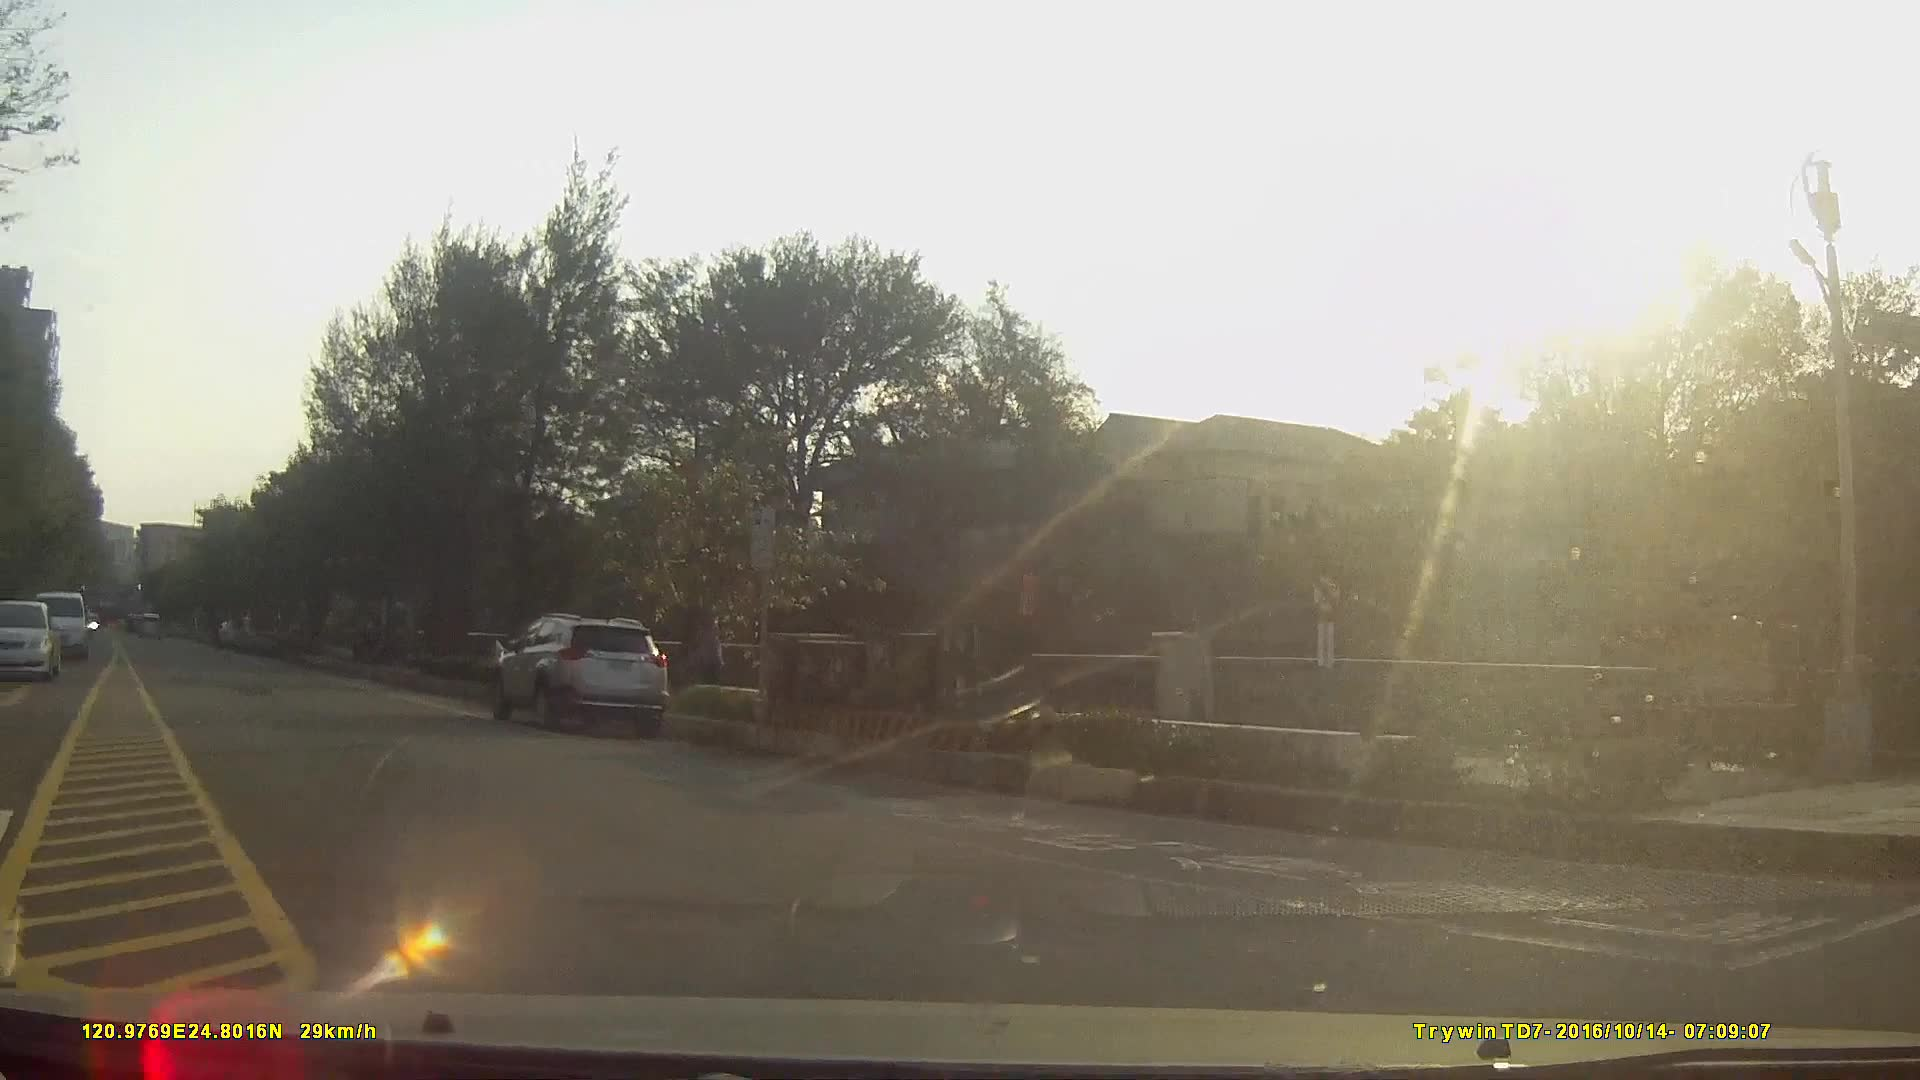vehicle: (487, 616, 671, 735), (0, 600, 55, 684), (30, 593, 90, 666)
